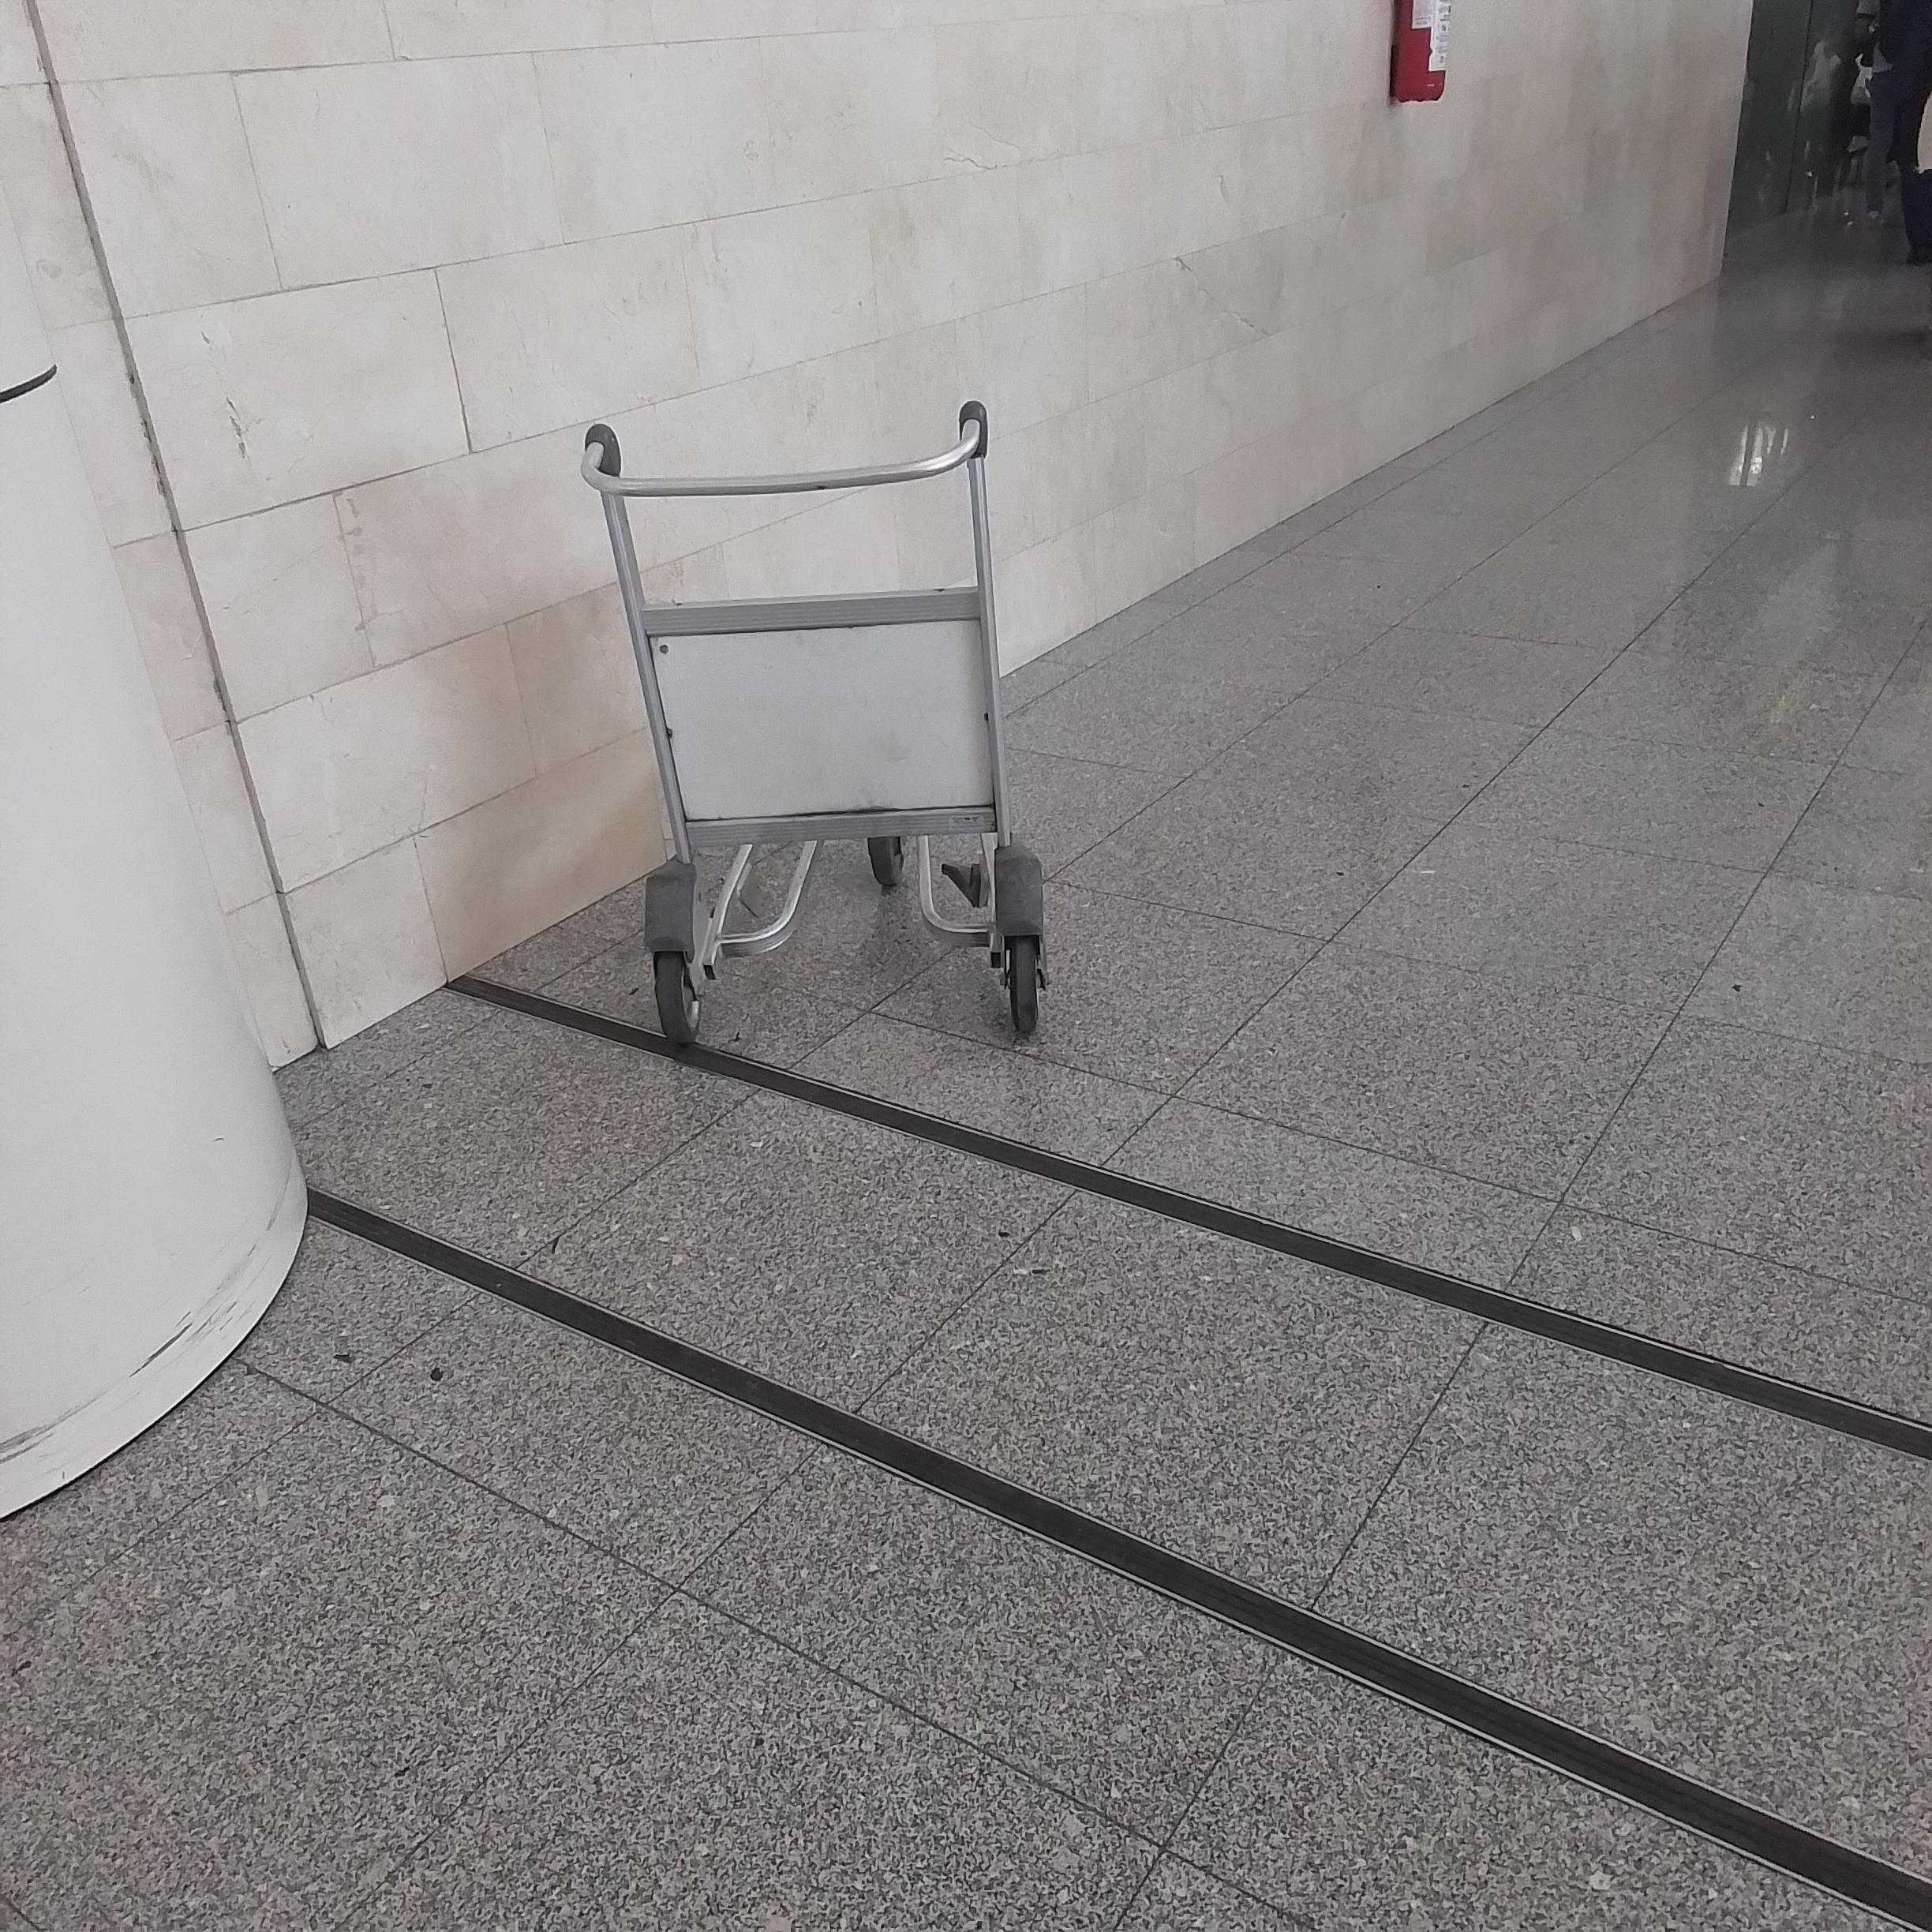airport-trolley: (566, 398, 1058, 1044)
